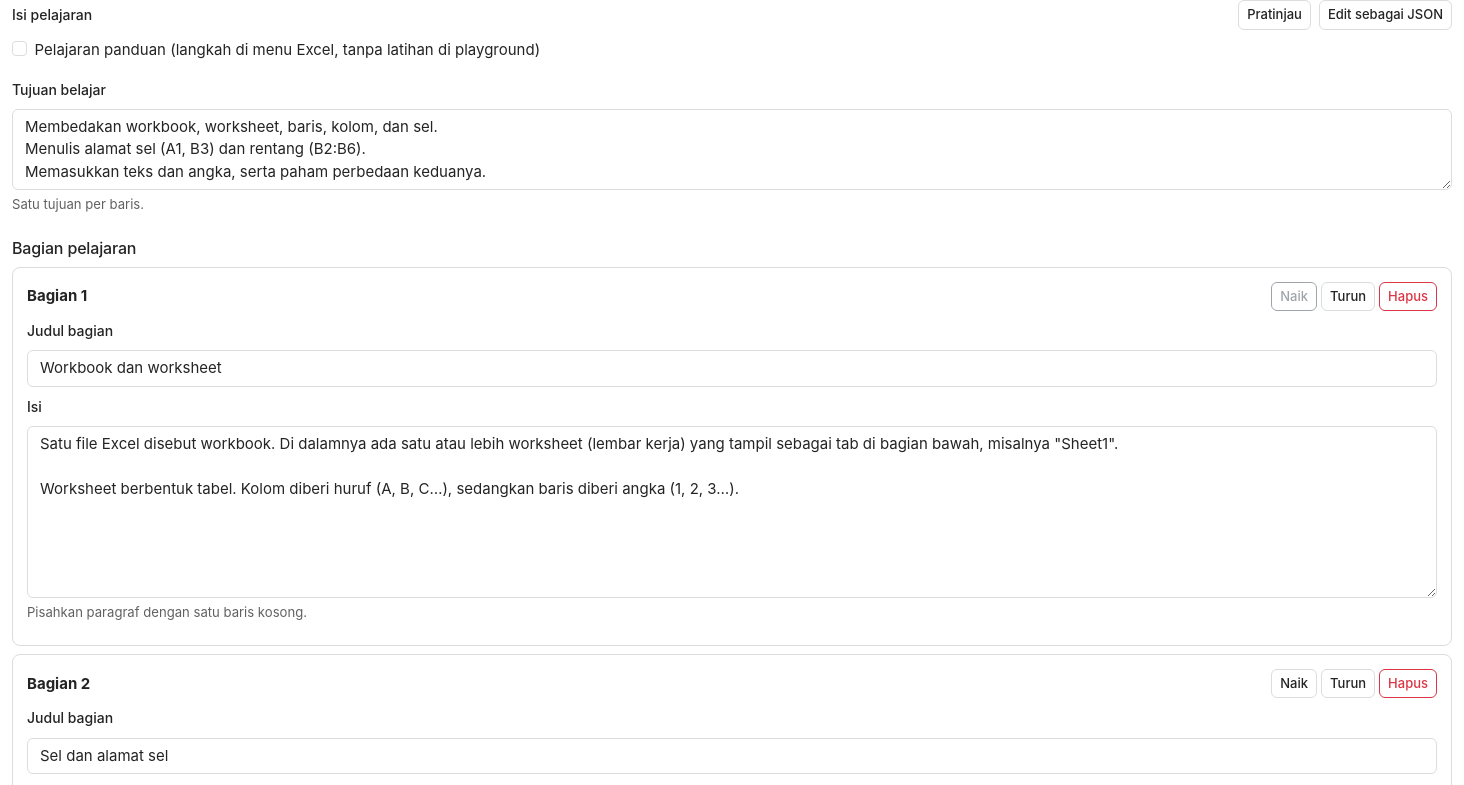
Scenario: editor isi pelajaran › pratinjau memakai judul dan isi yang sedang diedit, sebelum disimpan
Replace the text in the 1st field labelled "Judul bagian" with "Judul yang belum disimpan" at [732, 369], box [27,350,1437,387]
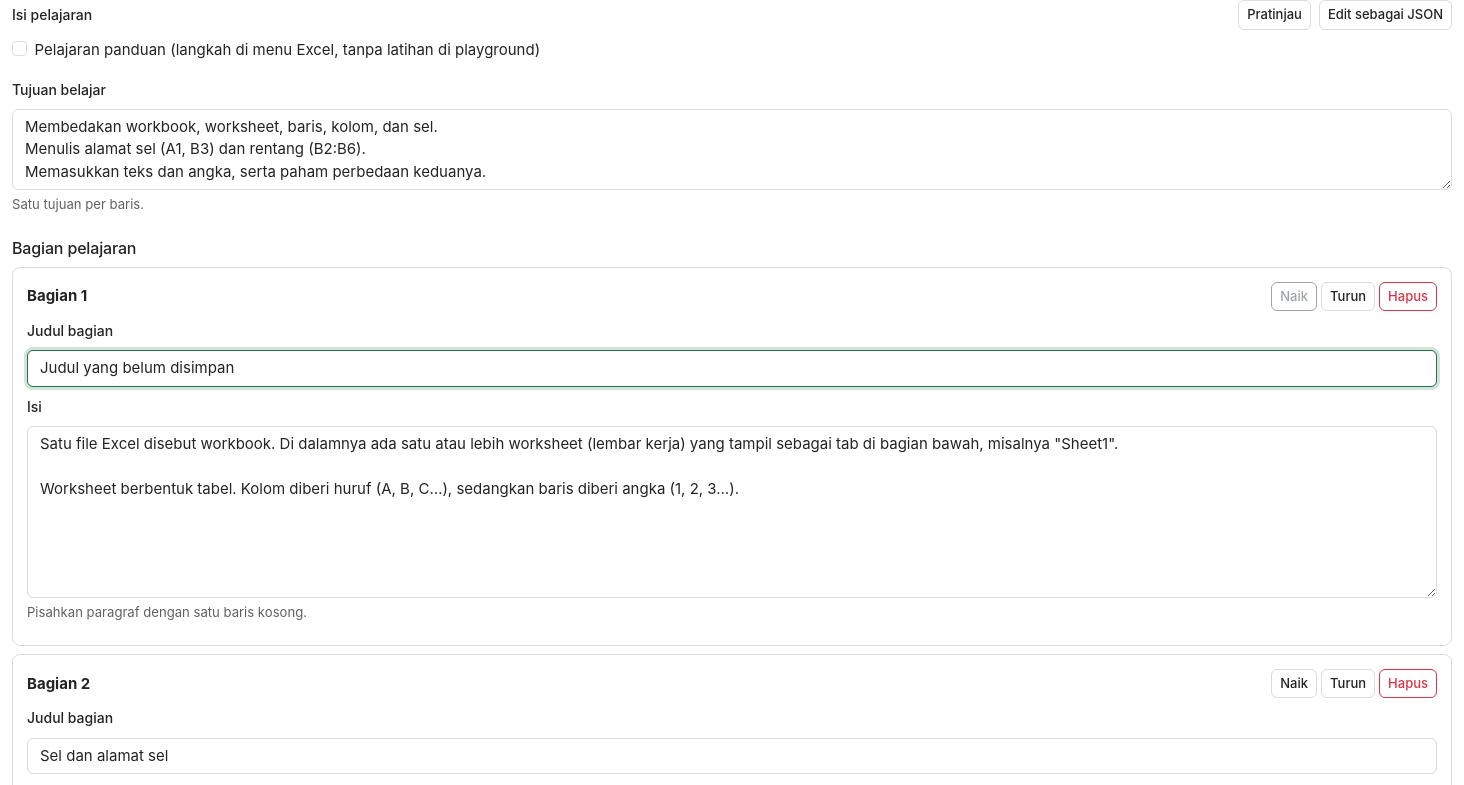
Click the button "Pratinjau" at [1275, 15], box [1238,0,1311,30]
(page scrolled)
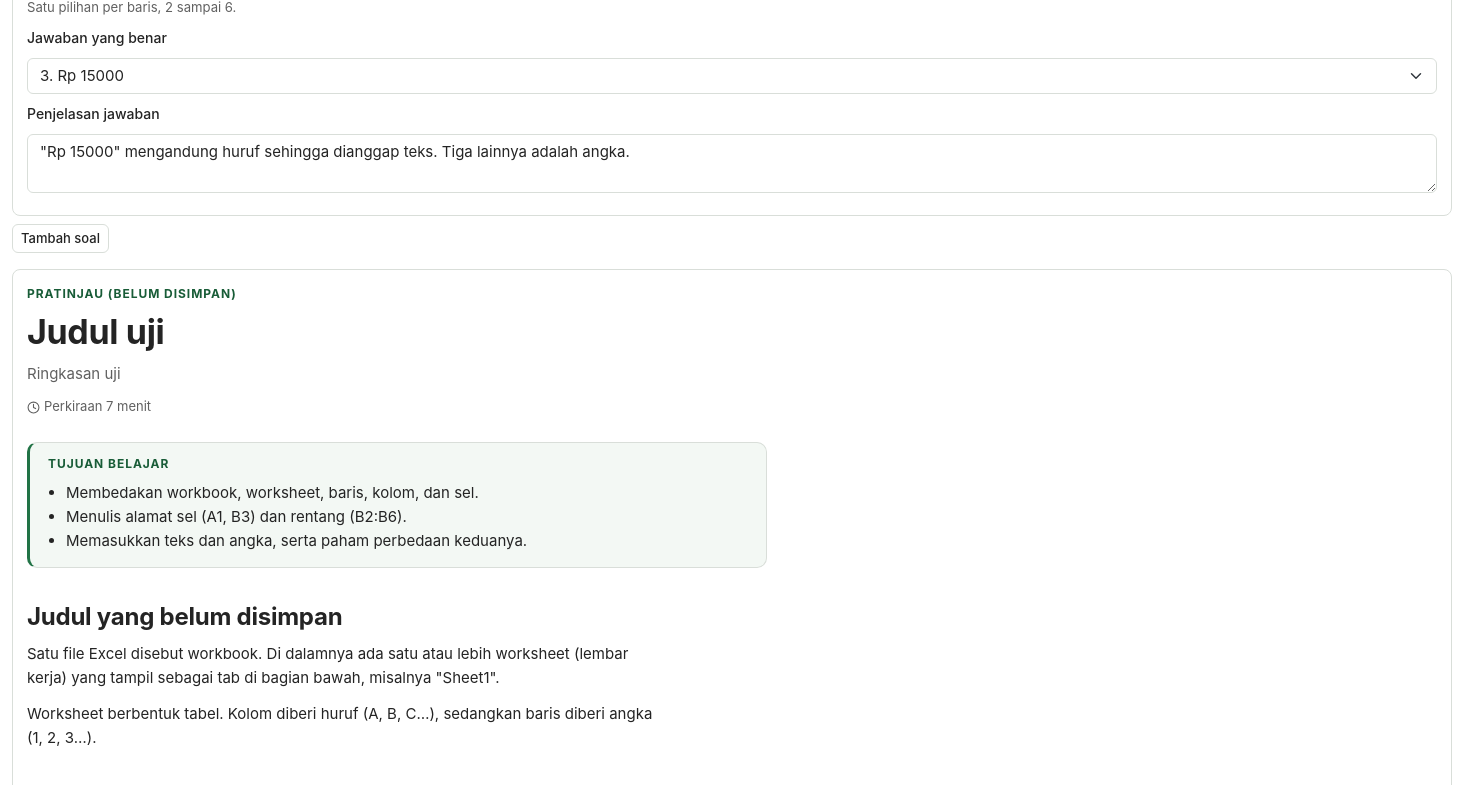
Expected: the heading "Judul uji" is shown, [27,311,164,352]
Expected: the heading "Judul yang belum disimpan" is shown, [27,602,342,631]
Expected: the text "Perkiraan 7 menit" is shown, [27,398,151,414]
